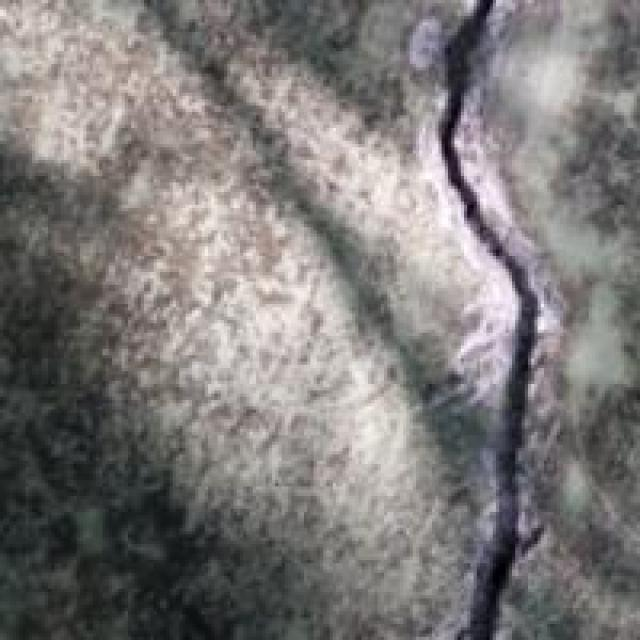crack: (387, 6, 608, 634)
